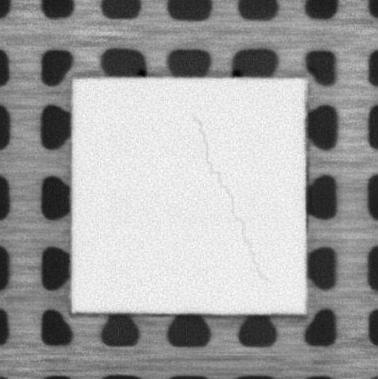DIE_CRACK: (190, 112, 270, 281)
